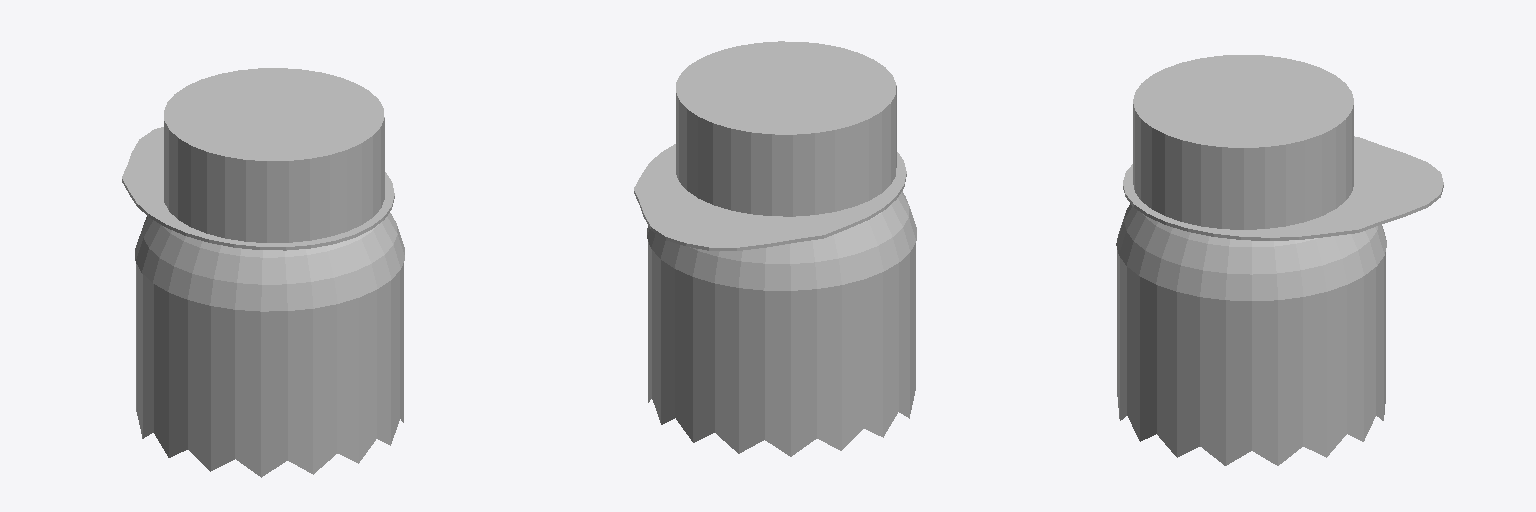
The model's file is Player.obj.
The picture shows the model from 3 angles: view 1: azimuth 30°, elevation 25°; view 2: azimuth 150°, elevation 25°; view 3: azimuth 270°, elevation 25°; orthographic projection.
Visible parts, largest first — view 1: 球; view 2: 球; view 3: 球.
Part boxes in pixels (bbox=[...]): 球: bbox=[122, 68, 404, 477]; 球: bbox=[634, 41, 916, 456]; 球: bbox=[1116, 55, 1443, 465].
Size of the model in its own units: 1.47 by 1.85 by 1.78.